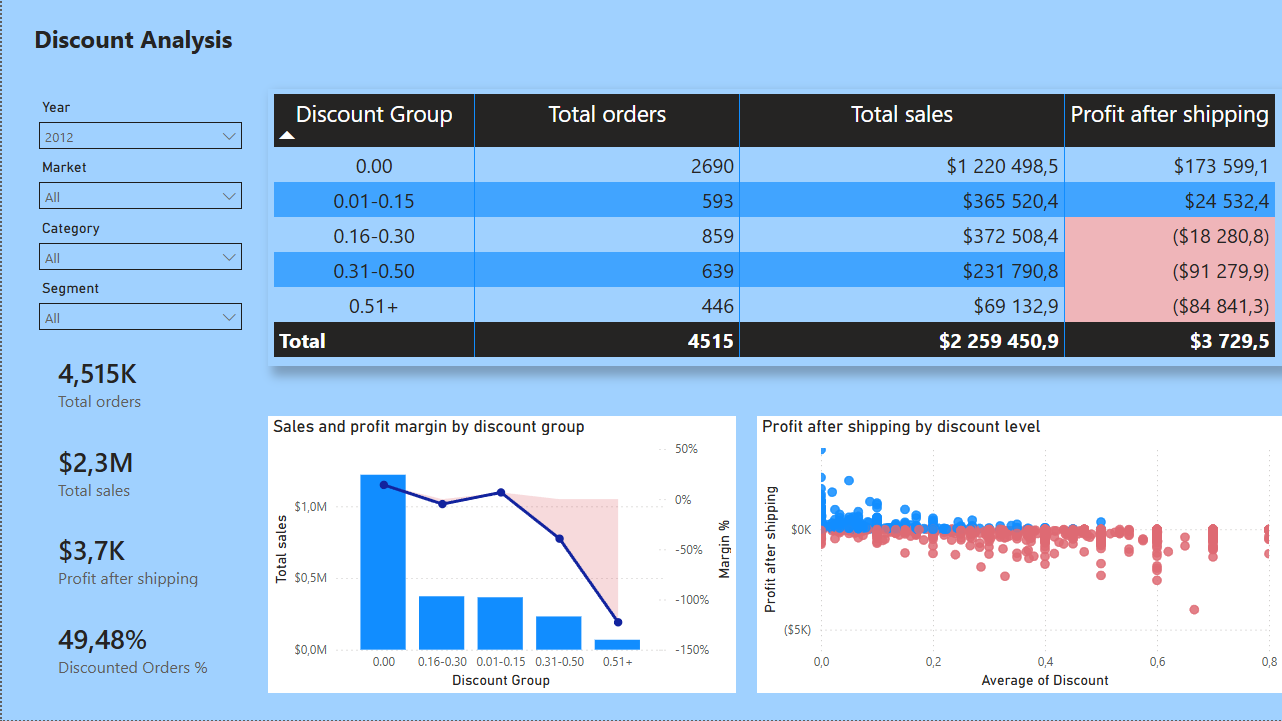

The page's visual inventory and layout, read from the dashboard file:
{"tool":"powerbi","page":{"name":"Page 3: Discount analysis","canvas":[1280,720],"ordinal":2},"visuals":[{"type":"tableEx","fields":{"Values":["Fact_Orders.Discount Group","Fact_Orders.Order ID","_mesures.Ttl_sales","_mesures.Profit_after_shipping"]},"box":[266,88.7,1014.4,277.5],"z":0},{"type":"slicer","fields":{"Values":["Calendar.Year"]},"box":[26.6,94,222.6,60.3],"z":0,"group":"g2"},{"type":"textbox","box":[26.6,16.8,210.1,44.3],"z":1000},{"type":"slicer","fields":{"Values":["Dim_Adress.Market"]},"box":[26.6,154.3,222.6,60.3],"z":1000,"group":"g2"},{"type":"slicer","fields":{"Values":["Dim_Product.Category"]},"box":[26.6,214.6,222.6,60.3],"z":2000,"group":"g2"},{"type":"group","id":"g1","title":"Group 1","box":[26.6,338.7,239.4,353.8],"z":2000,"group":"g3"},{"type":"cardVisual","fields":{"Data":["Count(Fact_Orders.Order ID)"]},"box":[26.6,338.7,239.4,88.4],"z":2000,"group":"g1"},{"type":"lineStackedColumnComboChart","title":"Sales and profit margin by discount group","fields":{"Y":["_mesures.Ttl_sales"],"Category":["Fact_Orders.Discount Group"],"Y2":["_mesures.Profit_margin_%"]},"box":[266,415.9,468.2,276.7],"z":2000},{"type":"group","id":"g2","title":"Group 2","box":[26.6,94,222.6,241.2],"z":3000,"group":"g3"},{"type":"slicer","fields":{"Values":["Dim_Product.Sub-Category"]},"box":[26.6,274.9,222.6,60.3],"z":3000,"group":"g2"},{"type":"scatterChart","title":"Profit after shipping by discount level","fields":{"X":["Avg(Fact_Orders.Discount)"],"Y":["_mesures.Profit_after_shipping"],"Category":["Fact_Orders.Order ID"]},"box":[755.5,415.9,524.9,276.7],"z":3000},{"type":"cardVisual","fields":{"Data":["_mesures.Ttl_sales"]},"box":[26.6,427.1,239.4,88.4],"z":3000,"group":"g1"},{"type":"group","id":"g3","title":"Group 3","box":[26.6,94,239.4,598.5],"z":4000},{"type":"cardVisual","fields":{"Data":["_mesures.Profit_after_shipping"]},"box":[26.6,515.6,239.4,88.4],"z":4000,"group":"g1"},{"type":"cardVisual","fields":{"Data":["_mesures.Discounted Orders %"]},"box":[26.6,604,222.9,88.4],"z":5000,"group":"g1"}]}

Visuals, with their boxes in screenshot pixels (x1, y1, x2, y2), scaled from the page's 1280x720 canvas onto the 1282x721 screenshot:
tableEx - Fact_Orders.Discount Group x Fact_Orders.Order ID: rect(266, 89, 1281, 367)
slicer - Calendar.Year: rect(27, 94, 250, 155)
textbox: rect(27, 17, 237, 61)
slicer - Dim_Adress.Market: rect(27, 155, 250, 215)
slicer - Dim_Product.Category: rect(27, 215, 250, 275)
"Group 1" group: rect(27, 339, 266, 693)
cardVisual - Count(Fact_Orders.Order ID): rect(27, 339, 266, 428)
"Sales and profit margin by discount group" lineStackedColumnComboChart: rect(266, 416, 735, 694)
"Group 2" group: rect(27, 94, 250, 336)
slicer - Dim_Product.Sub-Category: rect(27, 275, 250, 336)
"Profit after shipping by discount level" scatterChart: rect(757, 416, 1281, 694)
cardVisual - _mesures.Ttl_sales: rect(27, 428, 266, 516)
"Group 3" group: rect(27, 94, 266, 693)
cardVisual - _mesures.Profit_after_shipping: rect(27, 516, 266, 605)
cardVisual - _mesures.Discounted Orders %: rect(27, 605, 250, 693)
